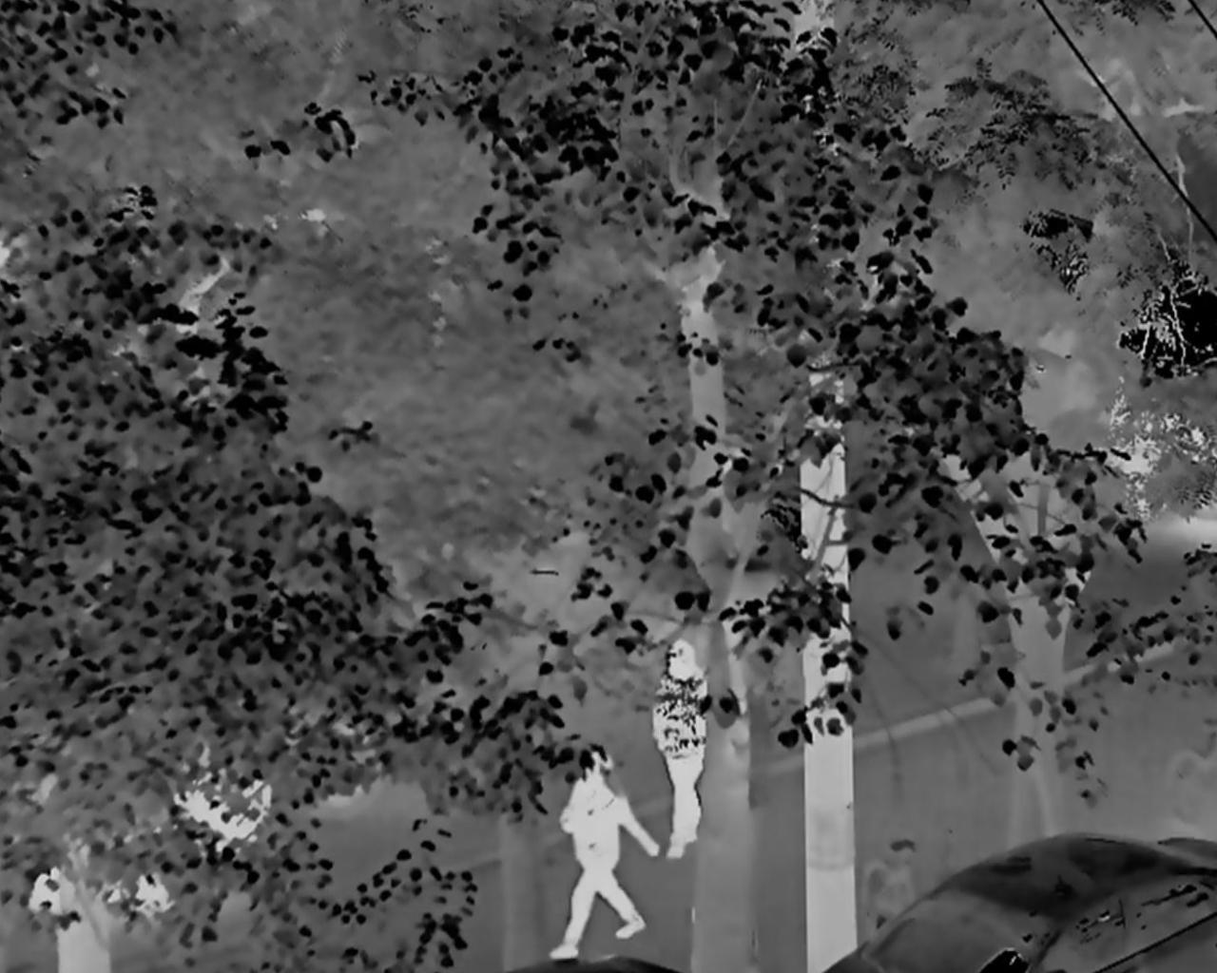person: (555, 749, 652, 963), (653, 639, 709, 862)
